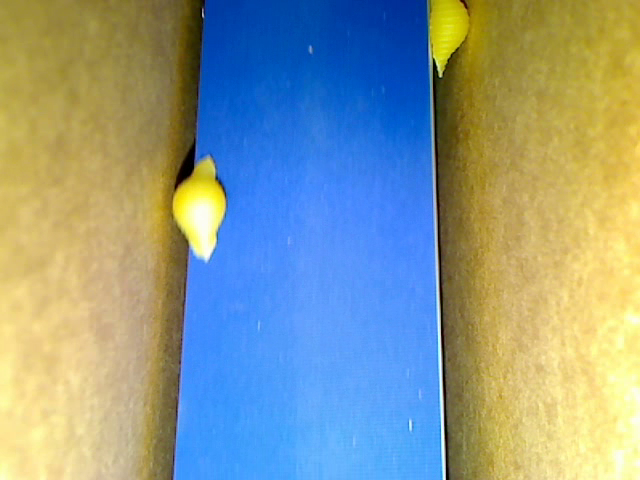shell: (170, 155, 224, 261), (430, 1, 472, 80)
